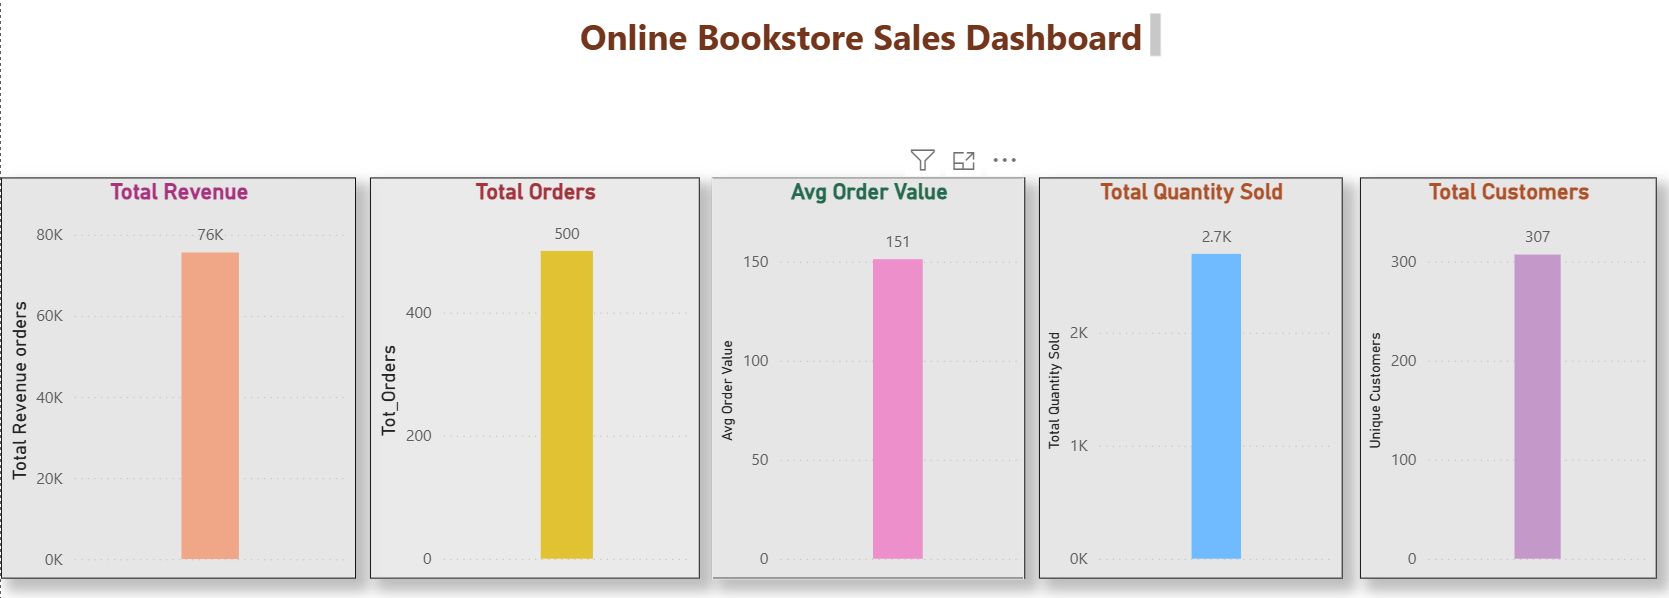

The page's visual inventory and layout, read from the dashboard file:
{"tool":"powerbi","page":{"name":"KPI Header","canvas":[1280,720],"ordinal":0},"visuals":[{"type":"clusteredColumnChart","title":"Total Revenue","fields":{"Y":["onlinebookstore books.Total Revenue orders"]},"box":[0,177.9,272.1,307.4],"z":0},{"type":"columnChart","title":"Total Orders","fields":{"Y":["onlinebookstore books.Tot_Orders"]},"box":[282.9,178.6,252.9,307.1],"z":1000},{"type":"columnChart","fields":{"Y":["onlinebookstore books.Avg Order Value"]},"box":[544.3,178.6,240,307.1],"z":2000},{"type":"columnChart","fields":{"Y":["onlinebookstore books.Total Quantity Sold"]},"box":[795.7,178.6,232.9,307.1],"z":3000},{"type":"columnChart","title":"Total Customers","fields":{"Y":["onlinebookstore books.Unique Customers"]},"box":[1041.4,178.6,227.1,307.1],"z":4000},{"type":"textbox","box":[433.8,47.1,460.3,44.1],"z":5000}]}

Visuals, with their boxes on the page's 1280x720 design canvas (x1, y1, x2, y2). These are canvas units, not pixel positions in the 1669x598 screenshot, which may show the page scaled, cropped or inside an application window:
"Total Revenue" clusteredColumnChart: crop(0, 178, 272, 485)
"Total Orders" columnChart: crop(283, 179, 536, 486)
columnChart - onlinebookstore books.Avg Order Value: crop(544, 179, 784, 486)
columnChart - onlinebookstore books.Total Quantity Sold: crop(796, 179, 1029, 486)
"Total Customers" columnChart: crop(1041, 179, 1268, 486)
textbox: crop(434, 47, 894, 91)
